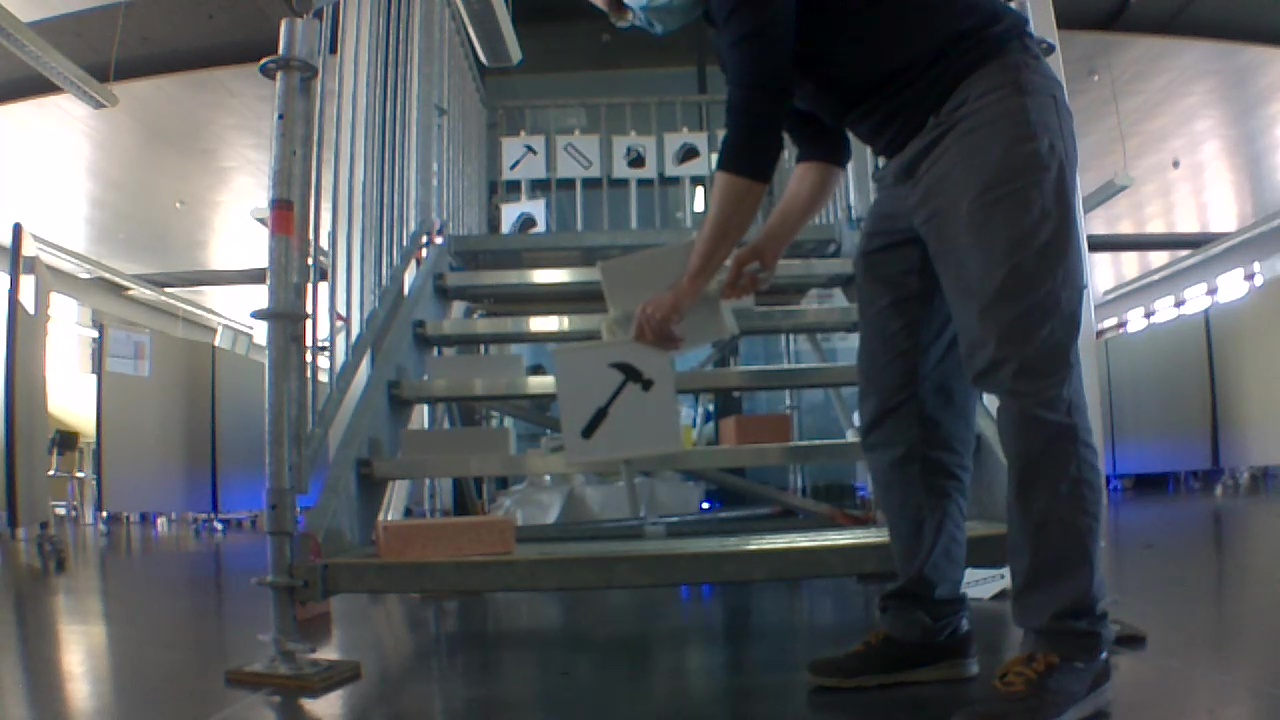brick: (377, 514, 512, 558), (403, 424, 515, 458), (427, 352, 526, 385), (717, 413, 792, 445)
bucket: (620, 138, 649, 170)
hammer: (580, 356, 655, 442), (508, 141, 541, 173)
ruler: (563, 138, 593, 172)
taco: (508, 208, 538, 240), (669, 143, 701, 170)
